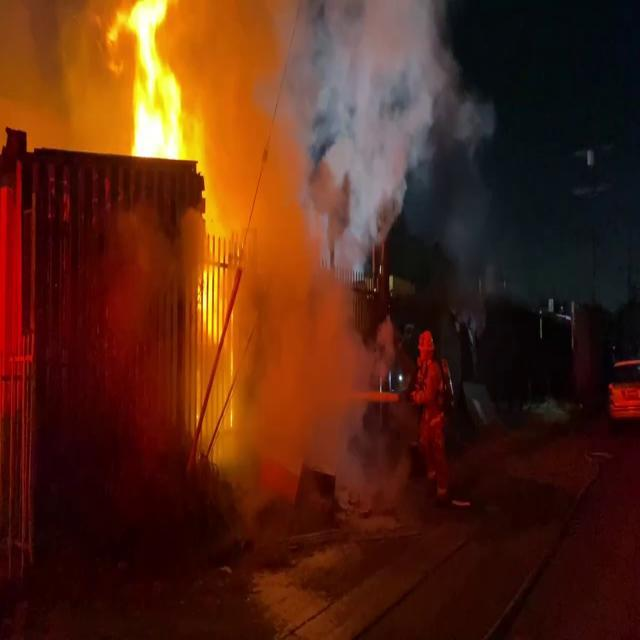Fire: (115, 0, 196, 162)
Smoke: (181, 0, 389, 485)
